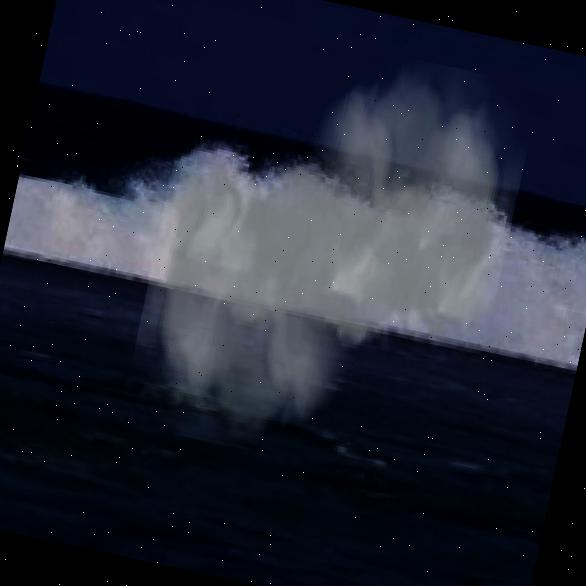smoke: (118, 15, 540, 494)
